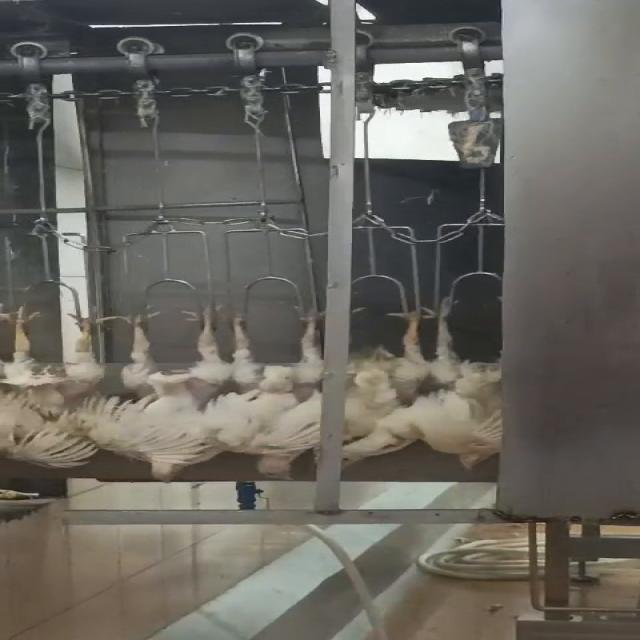chicken: (110, 298, 246, 486), (218, 286, 330, 484), (332, 291, 450, 473), (420, 284, 512, 476), (0, 304, 104, 471)
